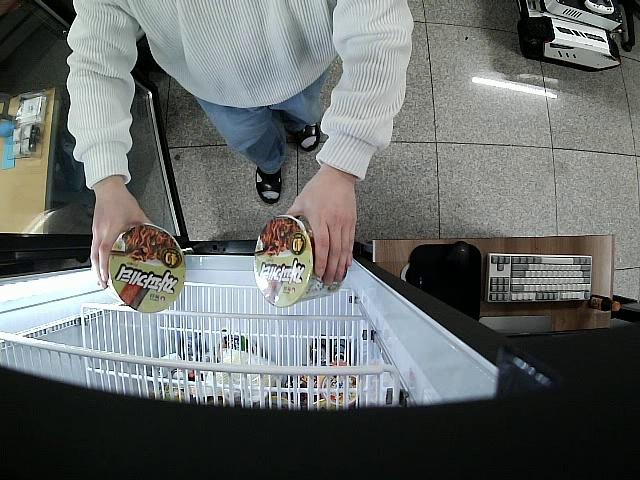00_hand: (289, 171, 357, 291), (89, 193, 155, 289)
03_chapagetti_L: (255, 217, 347, 307), (107, 226, 185, 317)
